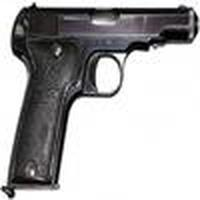gun: (12, 8, 188, 180)
